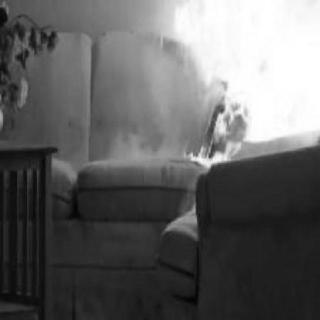Fire: (160, 1, 314, 165)
